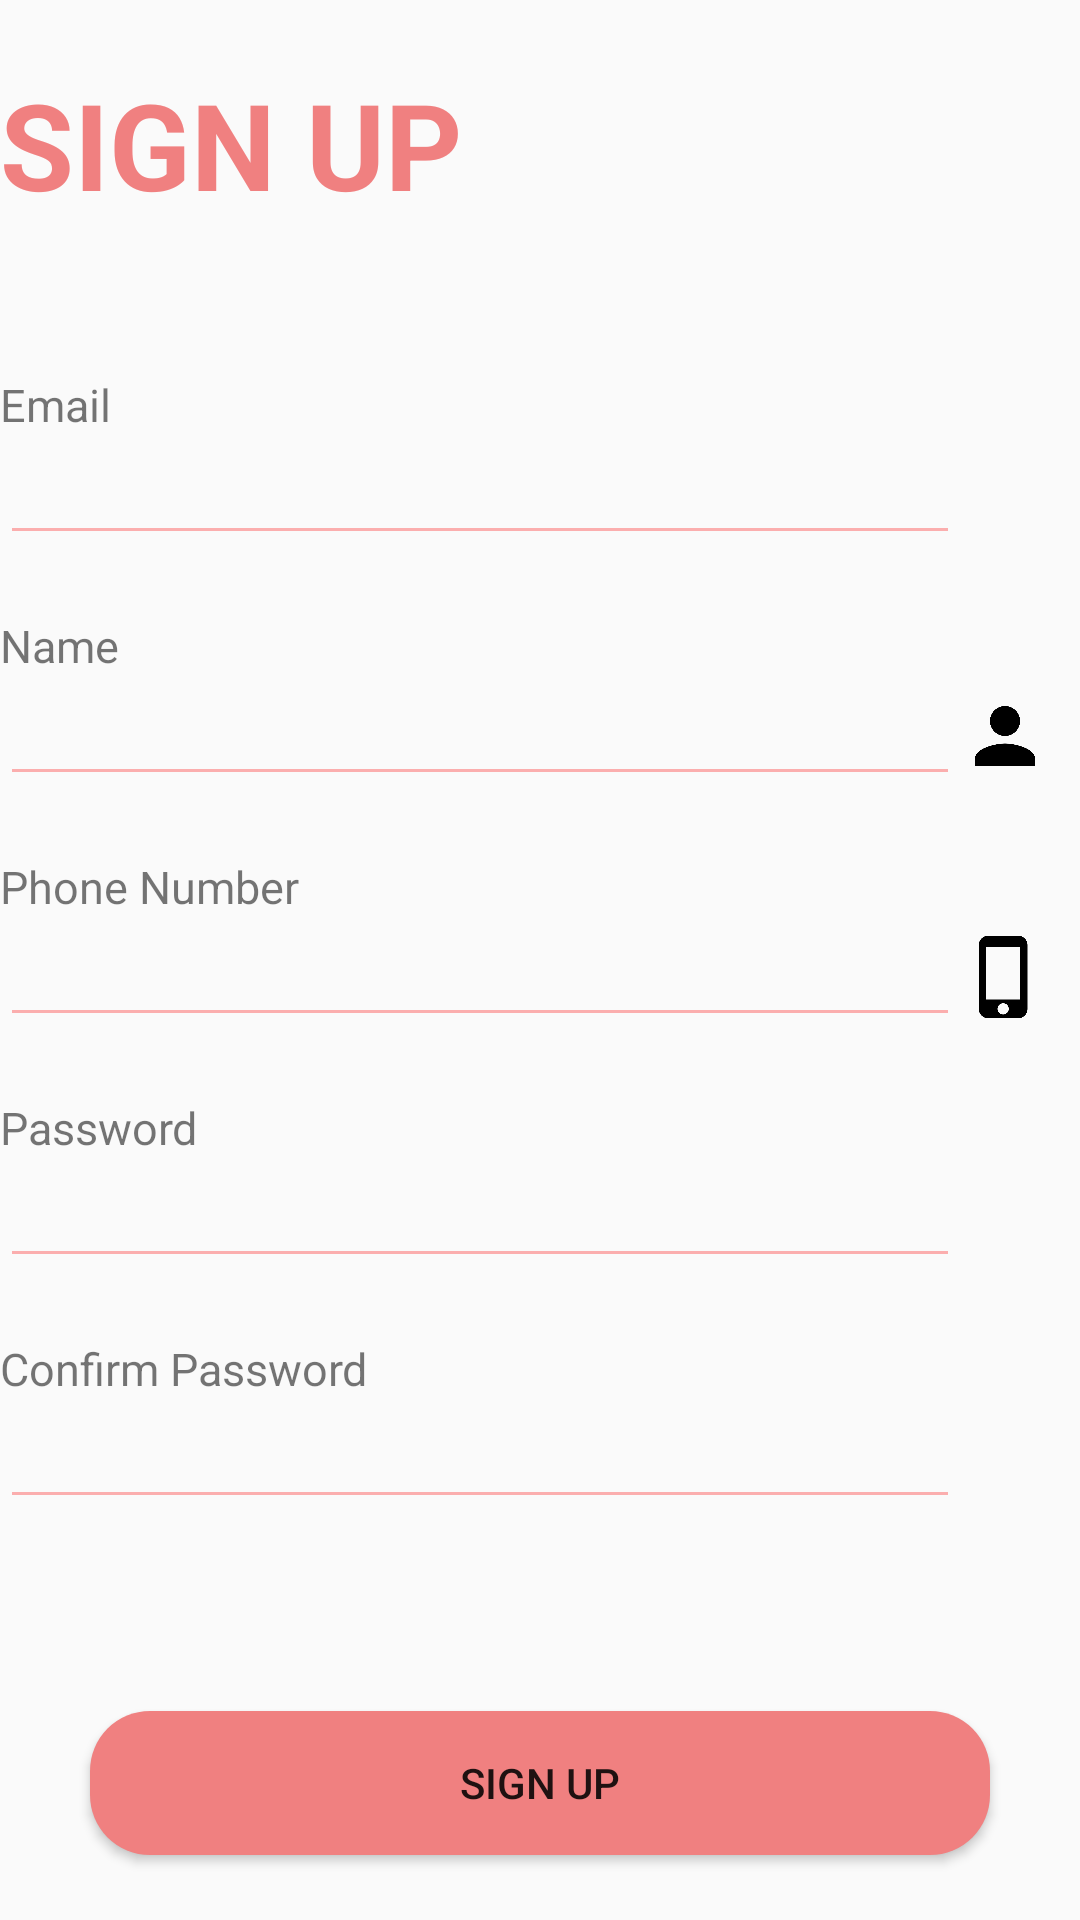

Locate icon controls on the screen. Image size 1080*1920, boxes as (x1, y1, x2, y2).
user: (975, 706, 1035, 766)
